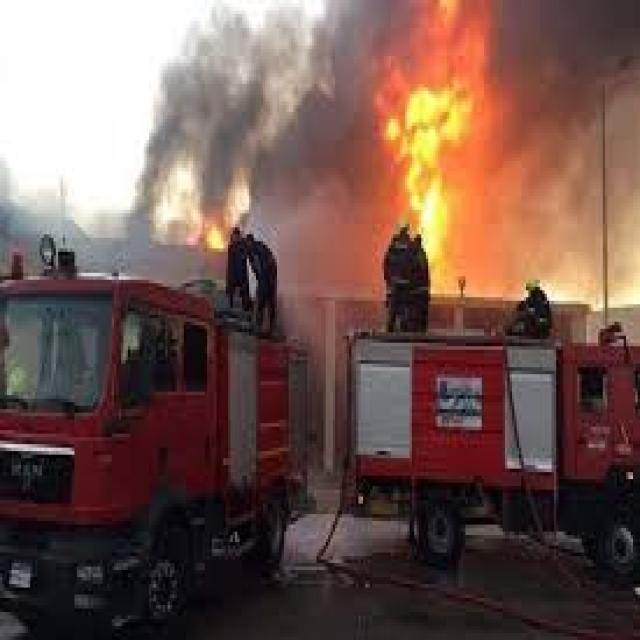pompier: (2, 246, 290, 625)
